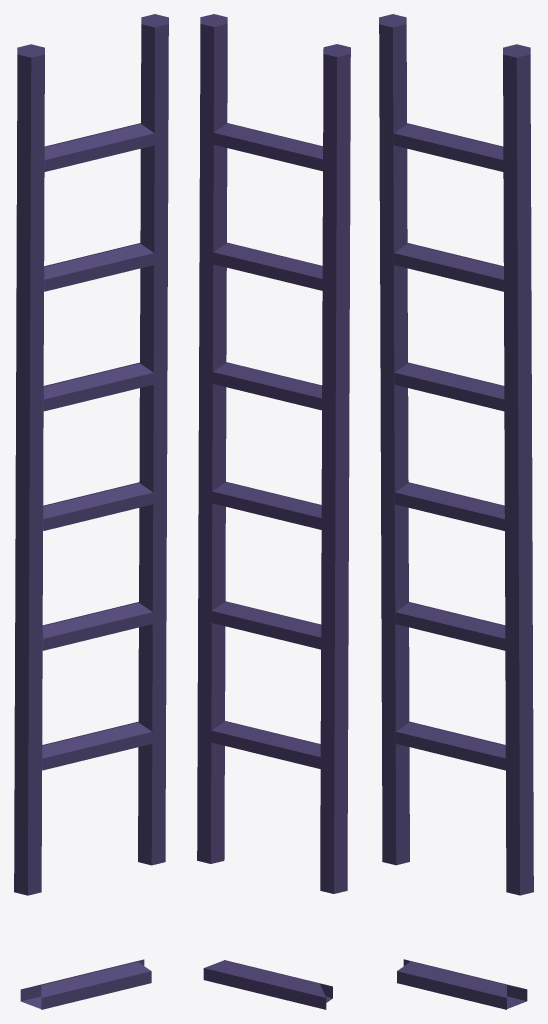
File: Ladder.fbx
The picture shows the model from 3 angles, left to right: view 1: azimuth 30°, elevation 25°; view 2: azimuth 150°, elevation 25°; view 3: azimuth 330°, elevation 25°; orthographic projection.
Visible parts, largest first — view 1: ladder_piece(Clone) (1).003, ladder_piece(Clone).011, ladder_piece(Clone).008, ladder_piece(Clone).006, ladder_piece(Clone).010, ladder_piece(Clone).009, ladder_piece(Clone).007, ladder_piece(Clone) (2).001, ladder_piece(Clone) (4).001, ladder_piece(Clone) (6).001, ladder_piece(Clone) (1).002, ladder_piece(Clone) (3).001 (+1 smaller); view 2: ladder_piece(Clone) (1).003, ladder_piece(Clone).011, ladder_piece(Clone).008, ladder_piece(Clone).010, ladder_piece(Clone).006, ladder_piece(Clone).007, ladder_piece(Clone).009, ladder_piece(Clone) (2).001, ladder_piece(Clone) (3).001, ladder_piece(Clone) (1).002, ladder_piece(Clone) (5).001, ladder_piece(Clone) (4).001 (+1 smaller); view 3: ladder_piece(Clone) (1).003, ladder_piece(Clone).011, ladder_piece(Clone).008, ladder_piece(Clone).006, ladder_piece(Clone).010, ladder_piece(Clone).009, ladder_piece(Clone).007, ladder_piece(Clone) (2).001, ladder_piece(Clone) (4).001, ladder_piece(Clone) (6).001, ladder_piece(Clone) (1).002, ladder_piece(Clone) (3).001 (+1 smaller).
Part boxes in pixels (box(x1,y1,x2,y2)): ladder_piece(Clone) (1).003: box(14, 742, 165, 1009); ladder_piece(Clone).011: box(17, 14, 168, 177); ladder_piece(Clone).008: box(15, 383, 167, 536); ladder_piece(Clone).006: box(14, 623, 166, 775); ladder_piece(Clone).010: box(16, 144, 168, 297); ladder_piece(Clone).009: box(16, 263, 167, 416); ladder_piece(Clone).007: box(15, 503, 166, 656); ladder_piece(Clone) (2).001: box(42, 602, 152, 650); ladder_piece(Clone) (4).001: box(43, 362, 153, 411); ladder_piece(Clone) (6).001: box(44, 123, 154, 171); ladder_piece(Clone) (1).002: box(42, 721, 152, 770); ladder_piece(Clone) (3).001: box(43, 482, 153, 530); ladder_piece(Clone) (1).003: box(197, 741, 347, 1009); ladder_piece(Clone).011: box(200, 14, 350, 176); ladder_piece(Clone).008: box(198, 382, 349, 535); ladder_piece(Clone).010: box(199, 143, 350, 296); ladder_piece(Clone).006: box(197, 621, 348, 774); ladder_piece(Clone).007: box(198, 502, 348, 654); ladder_piece(Clone).009: box(199, 262, 349, 415); ladder_piece(Clone) (2).001: box(211, 601, 321, 649); ladder_piece(Clone) (3).001: box(212, 481, 321, 529); ladder_piece(Clone) (1).002: box(211, 721, 320, 768); ladder_piece(Clone) (5).001: box(213, 242, 322, 290); ladder_piece(Clone) (4).001: box(212, 362, 321, 410); ladder_piece(Clone) (1).003: box(382, 742, 533, 1009); ladder_piece(Clone).011: box(379, 14, 530, 177); ladder_piece(Clone).008: box(380, 383, 532, 536); ladder_piece(Clone).006: box(381, 623, 533, 775); ladder_piece(Clone).010: box(379, 144, 531, 296); ladder_piece(Clone).009: box(380, 263, 531, 416); ladder_piece(Clone).007: box(381, 503, 532, 655); ladder_piece(Clone) (2).001: box(395, 602, 505, 650); ladder_piece(Clone) (4).001: box(394, 362, 504, 411); ladder_piece(Clone) (6).001: box(393, 123, 503, 171); ladder_piece(Clone) (1).002: box(396, 721, 505, 770); ladder_piece(Clone) (3).001: box(395, 482, 504, 530).
Bounding box in the file's own units: 132 × 803 × 26.54.
